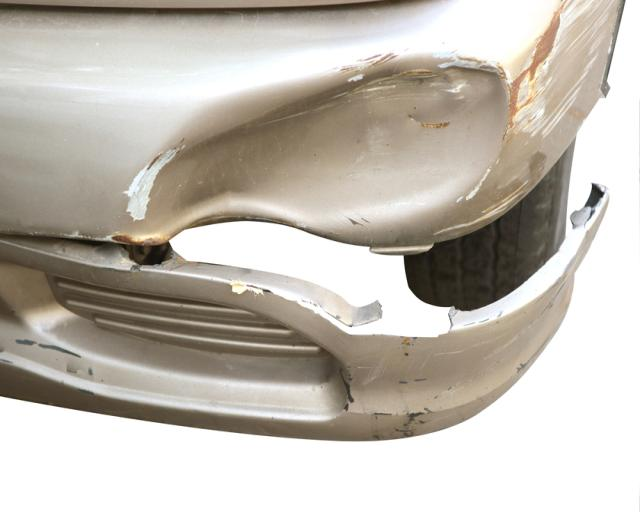crack: (240, 283, 385, 340)
dent: (147, 60, 516, 235)
scratch: (505, 0, 625, 140), (437, 169, 533, 237), (370, 373, 460, 439), (120, 144, 168, 225), (335, 48, 400, 78)
